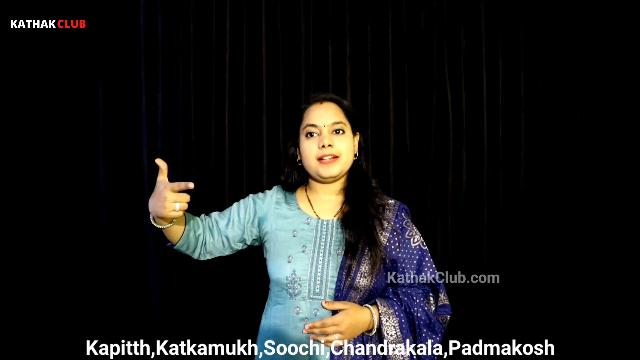chandrakala: (140, 146, 210, 238)
